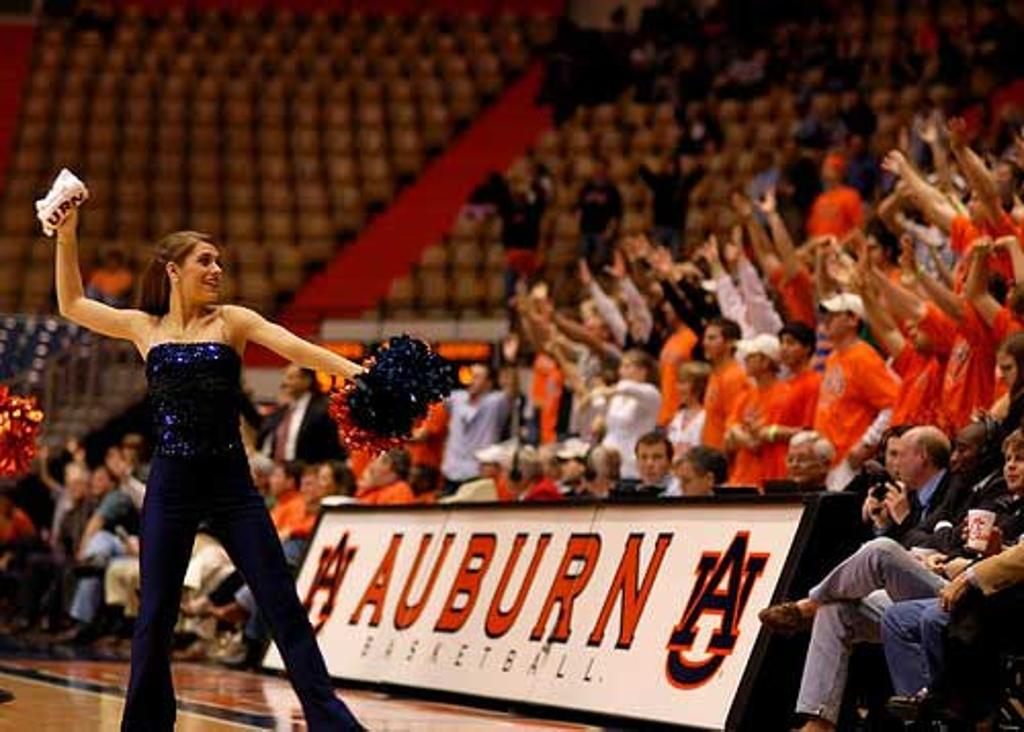face: (181, 244, 222, 301), (786, 444, 817, 482), (887, 441, 913, 484), (950, 437, 978, 474), (899, 443, 919, 488), (1003, 446, 1023, 487), (678, 468, 706, 495), (639, 446, 662, 478), (903, 315, 926, 347), (663, 290, 684, 322), (825, 306, 847, 336), (615, 357, 639, 384), (501, 458, 521, 490), (675, 267, 698, 294), (997, 357, 1017, 388), (703, 328, 723, 359), (779, 336, 801, 364), (744, 349, 765, 377), (179, 588, 203, 611), (372, 453, 390, 482), (864, 238, 884, 262), (281, 369, 300, 394), (561, 454, 578, 481), (676, 375, 693, 401), (538, 456, 556, 478), (585, 320, 603, 342), (994, 166, 1009, 191), (299, 476, 315, 499), (67, 474, 82, 498), (107, 449, 122, 473), (269, 470, 286, 491), (317, 468, 334, 489), (93, 469, 108, 492), (408, 466, 423, 488), (820, 161, 837, 180), (967, 195, 983, 215), (357, 470, 372, 491), (251, 466, 265, 488), (478, 458, 493, 478), (469, 371, 484, 390), (1005, 286, 1017, 303), (125, 442, 135, 458)
